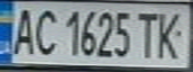1: (60, 6, 81, 56)
2: (93, 7, 118, 58)
5: (112, 8, 136, 59)
6: (78, 7, 100, 57)
A: (9, 4, 39, 56)
C: (30, 4, 60, 56)
K: (151, 8, 190, 61)
T: (133, 8, 160, 60)
